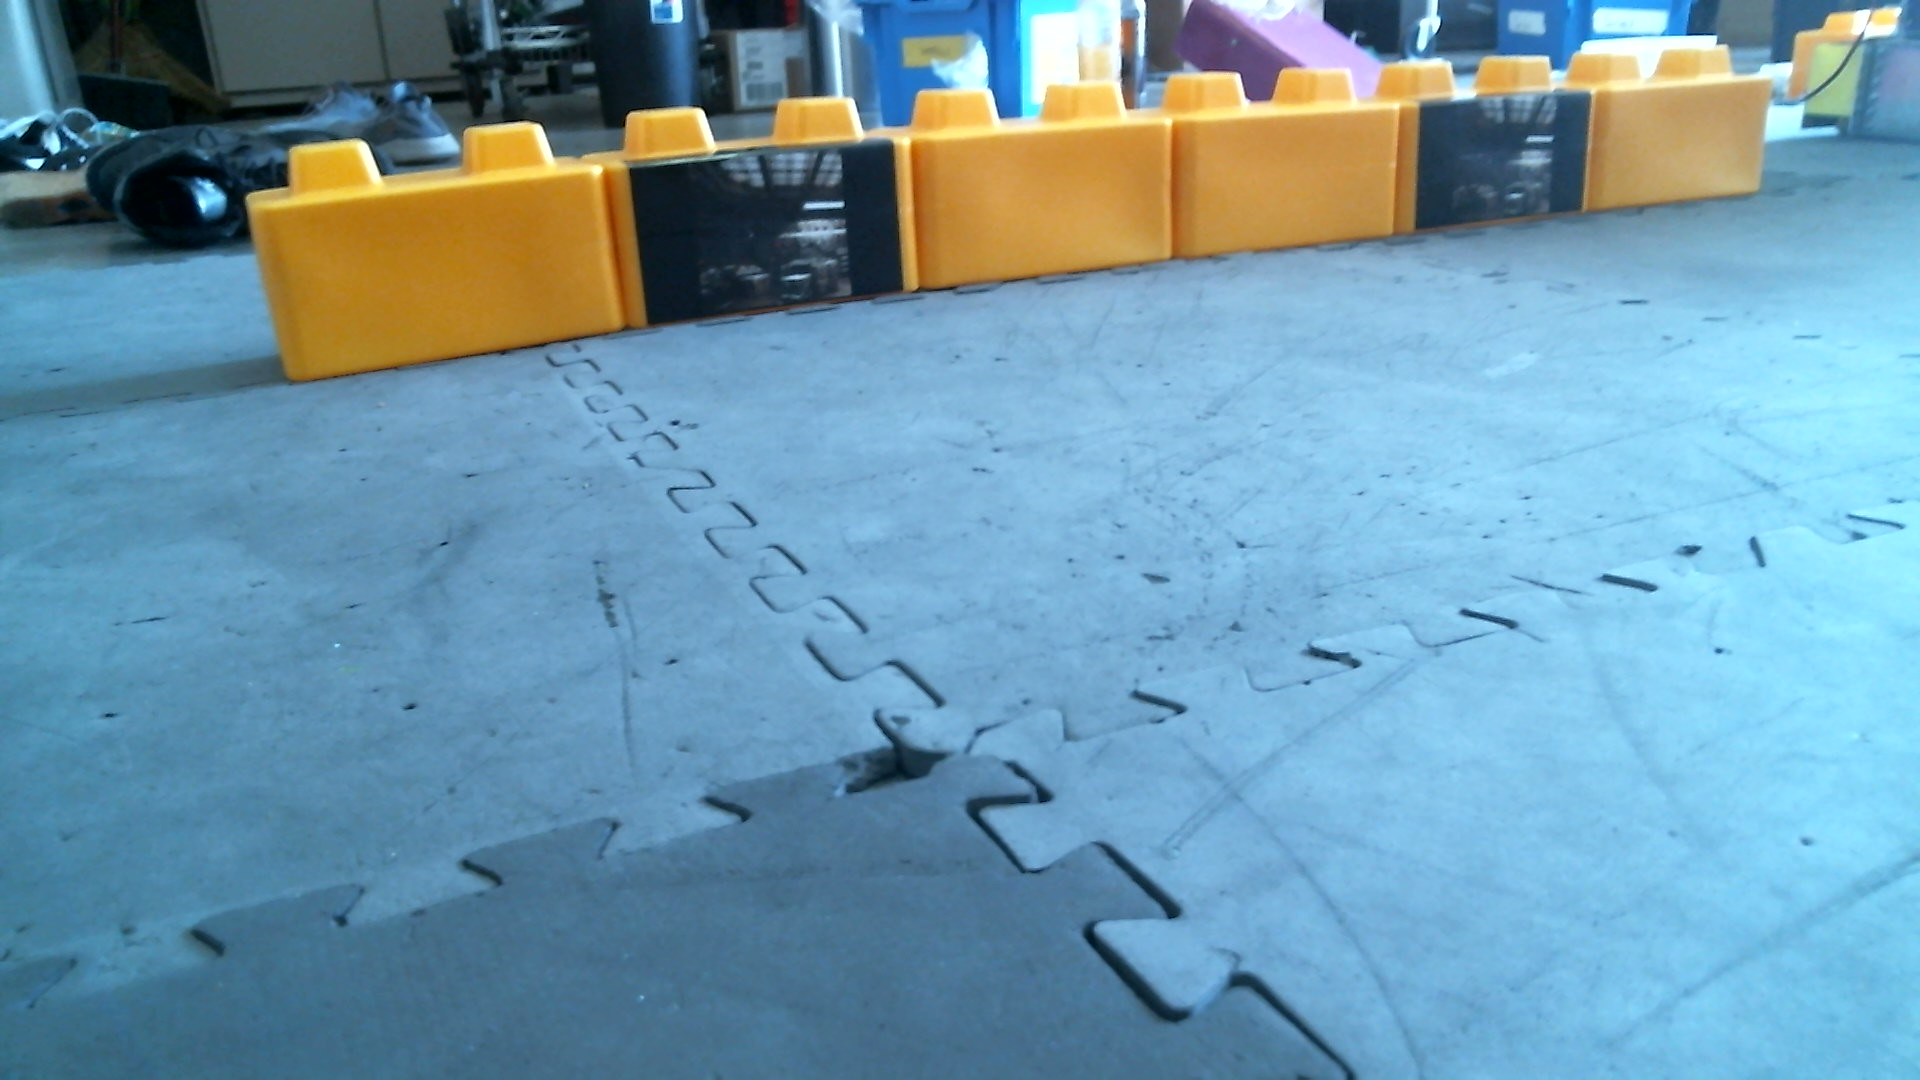skystone: (609, 95, 930, 332), (1402, 55, 1592, 227)
stone: (241, 119, 618, 386), (914, 87, 1174, 287), (1164, 70, 1402, 264), (1592, 49, 1776, 223)
